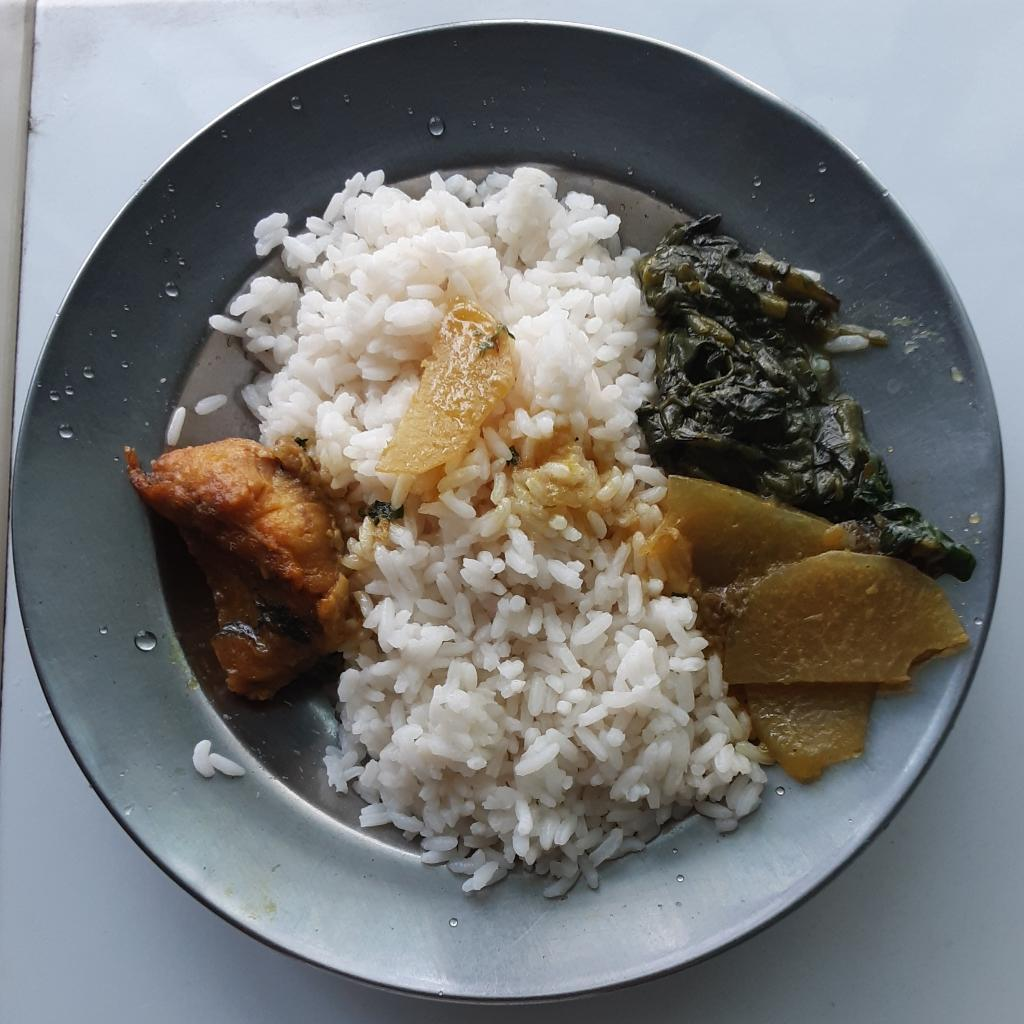dundol: (644, 471, 967, 781)
fish: (123, 436, 347, 708)
rice: (189, 158, 780, 907)
shak: (639, 211, 975, 588)
